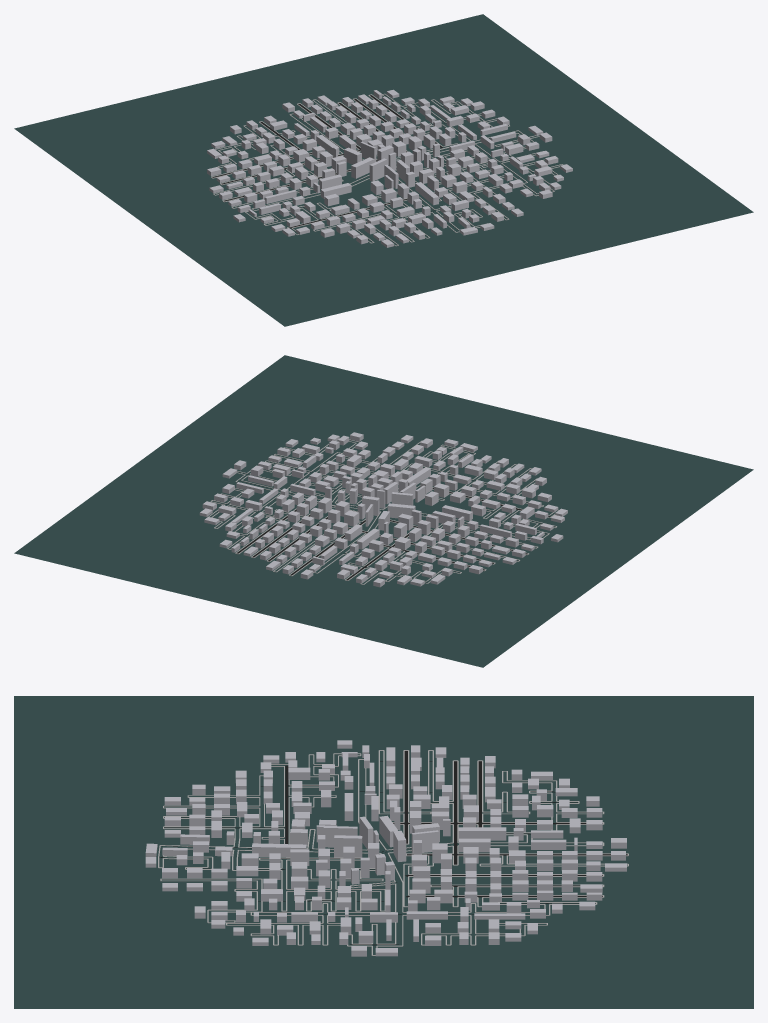
Rendered from city.obj.
The picture shows the model from 3 angles, top to bottom: view 1: azimuth 30°, elevation 25°; view 2: azimuth 150°, elevation 25°; view 3: azimuth 270°, elevation 25°; orthographic projection. The views are drawn at different scales.
Visible parts, largest first — view 1: Ground, Buildings, Sidewalks, Roads_Street; view 2: Ground, Buildings, Sidewalks, Roads_Street; view 3: Ground, Buildings, Sidewalks, Roads_Street.
Part boxes in pixels (x1=…): Ground: x1=14, y1=14, x2=753, y2=326; Buildings: x1=207, y1=89, x2=572, y2=247; Sidewalks: x1=211, y1=93, x2=563, y2=246; Roads_Street: x1=212, y1=95, x2=537, y2=228; Ground: x1=14, y1=355, x2=753, y2=667; Buildings: x1=199, y1=432, x2=567, y2=587; Sidewalks: x1=208, y1=439, x2=558, y2=584; Roads_Street: x1=217, y1=464, x2=549, y2=582; Ground: x1=14, y1=696, x2=753, y2=1008; Buildings: x1=145, y1=740, x2=626, y2=956; Sidewalks: x1=158, y1=750, x2=628, y2=955; Roads_Street: x1=159, y1=751, x2=627, y2=945.
Size of the model in its own units: 120 by 4.23 by 120.
